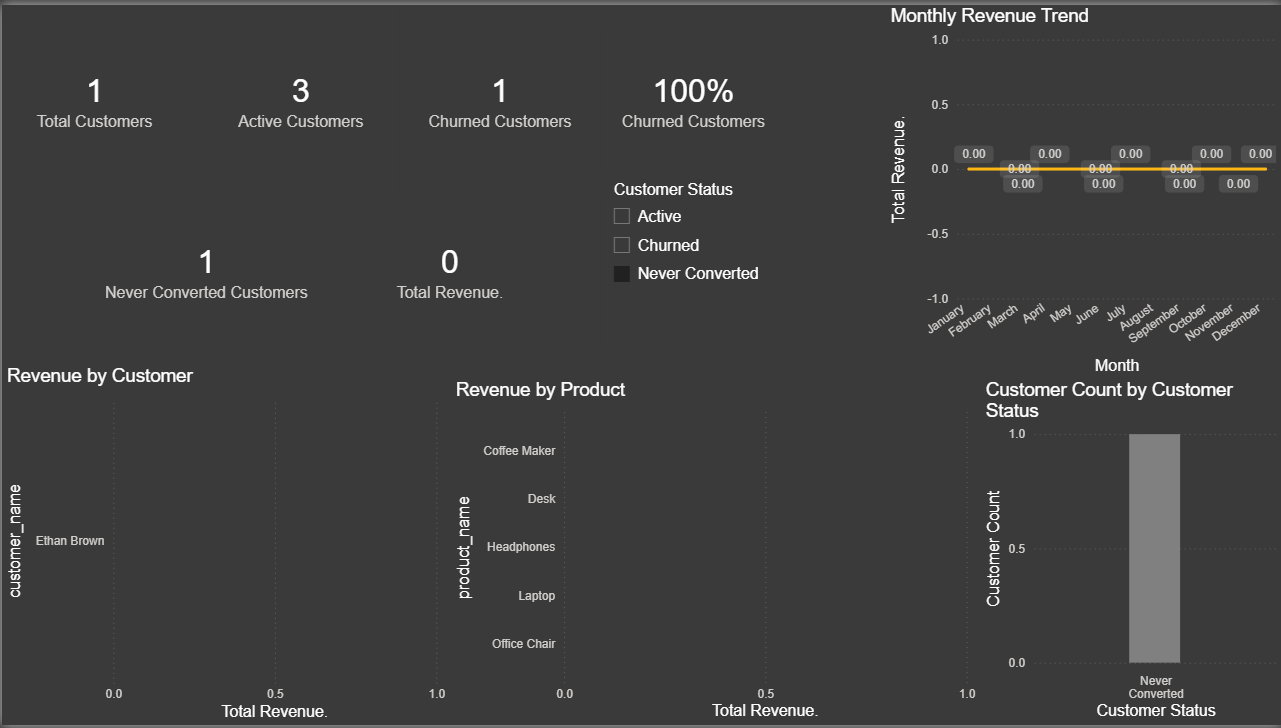

This screenshot's page, from the dashboard's own definition file:
{"tool":"powerbi","page":{"name":"Page 1","canvas":[1280,720],"ordinal":0},"visuals":[{"type":"lineChart","title":"Monthly Revenue Trend","fields":{"Category":["public orders.order_date.Variation.Date Hierarchy.Month"],"Y":["public customers.Total Revenue."]},"box":[884.3,0,395.7,374.3],"z":0},{"type":"card","fields":{"Values":["public customers.Total Revenue (Zero)"]},"box":[347.1,171.4,201.4,187.1],"z":1000},{"type":"clusteredBarChart","title":"Revenue by Customer","fields":{"Category":["public customers.customer_name"],"Y":["public customers.Total Revenue."]},"box":[0,360,448.6,360],"z":2000},{"type":"clusteredBarChart","title":"Revenue by Product","fields":{"Category":["public products.product_name"],"Y":["public customers.Total Revenue."]},"box":[448.6,374.3,530,345.7],"z":3000},{"type":"slicer","fields":{"Values":["public customers.Customer Status"]},"box":[598.6,171.4,285.7,170],"z":4000},{"type":"card","fields":{"Values":["public customers.Active Customers"]},"box":[201.4,0,195.7,187.1],"z":5000},{"type":"card","fields":{"Values":["public customers.Churned Customers"]},"box":[397.1,0,201.4,187.1],"z":6000},{"type":"card","fields":{"Values":["public customers.Never Converted Customers"]},"box":[92.9,187.1,224.3,154.3],"z":7000},{"type":"card","title":"Churn Rate (Based on Last 60 Days)","fields":{"Values":["public customers.Churned Customers"]},"box":[598.6,20,185.7,147.1],"z":8000},{"type":"card","fields":{"Values":["public customers.Total Customers"]},"box":[0,0,185.7,187.1],"z":9000},{"type":"clusteredColumnChart","fields":{"Category":["public customers.Customer Status"],"Y":["public customers.Customer Count"]},"box":[978.6,374.3,301.4,345.7],"z":10000}]}

Visuals, with their boxes in screenshot pixels (x1, y1, x2, y2), scaled from the page's 1280x720 canvas onto the 1281x728 screenshot:
"Monthly Revenue Trend" lineChart: (left=885, top=0, right=1280, bottom=378)
card - public customers.Total Revenue (Zero): (left=347, top=173, right=549, bottom=362)
"Revenue by Customer" clusteredBarChart: (left=0, top=364, right=449, bottom=727)
"Revenue by Product" clusteredBarChart: (left=449, top=378, right=979, bottom=727)
slicer - public customers.Customer Status: (left=599, top=173, right=885, bottom=345)
card - public customers.Active Customers: (left=202, top=0, right=397, bottom=189)
card - public customers.Churned Customers: (left=397, top=0, right=599, bottom=189)
card - public customers.Never Converted Customers: (left=93, top=189, right=317, bottom=345)
"Churn Rate (Based on Last 60 Days)" card: (left=599, top=20, right=785, bottom=169)
card - public customers.Total Customers: (left=0, top=0, right=186, bottom=189)
clusteredColumnChart - public customers.Customer Status x public customers.Customer Count: (left=979, top=378, right=1280, bottom=727)
